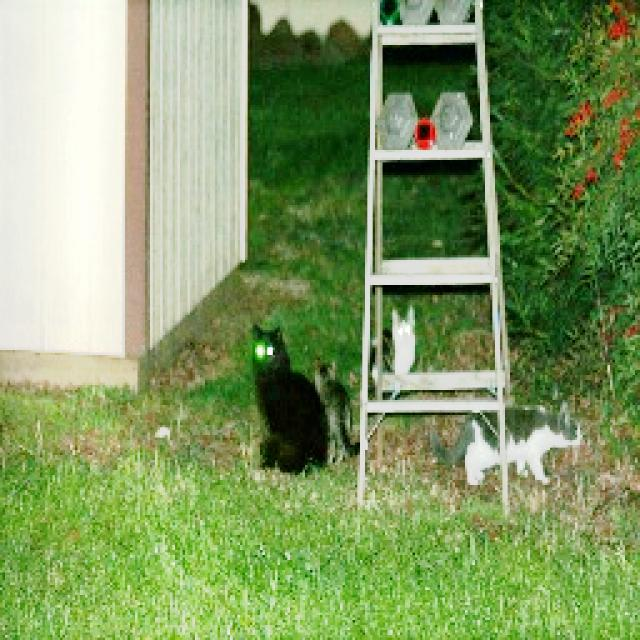cat: (213, 299, 357, 517), (432, 388, 592, 518), (309, 337, 364, 468), (364, 305, 432, 381)
